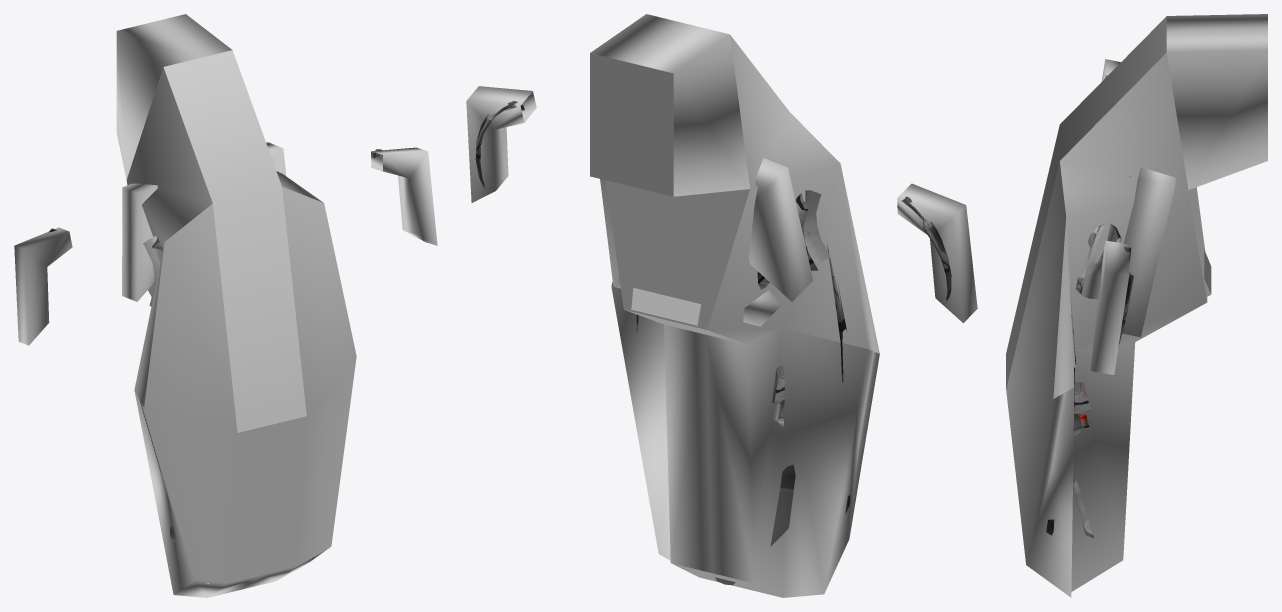
Rendered from alien_gunship.fbx.
3 views of the same model, side by side, from view 1: azimuth 30°, elevation 25°; view 2: azimuth 150°, elevation 25°; view 3: azimuth 270°, elevation 25° (orthographic). The views are drawn at different scales.
Parts seen in each view (by area): view 1: 0007_hull, 0010_l_wing, 0009_r_wing, 0011_l_thruster; view 2: 0007_hull, 0011_l_thruster, 0010_l_wing, 0009_r_wing, 0005_l_wing, 0014_tail, 0008_generator; view 3: 0007_hull, 0011_l_thruster, 0009_r_wing, 0003_r_wing, 0014_tail.
Boxes of the visible parts, x1,y1,x2,y2 form: 0007_hull: (116, 14, 356, 597); 0010_l_wing: (14, 227, 72, 345); 0009_r_wing: (371, 147, 437, 245); 0011_l_thruster: (122, 142, 286, 301); 0007_hull: (590, 14, 879, 597); 0011_l_thruster: (600, 158, 813, 326); 0010_l_wing: (897, 183, 977, 323); 0009_r_wing: (466, 86, 536, 202); 0005_l_wing: (795, 190, 951, 302); 0014_tail: (715, 365, 795, 585); 0008_generator: (631, 287, 700, 325); 0007_hull: (1006, 14, 1267, 597); 0011_l_thruster: (1122, 167, 1175, 337); 0009_r_wing: (1090, 240, 1129, 374); 0003_r_wing: (1075, 223, 1133, 345); 0014_tail: (1073, 382, 1093, 537).
Bounding box in the file's own units: 19.66 × 23.02 × 10.08.
